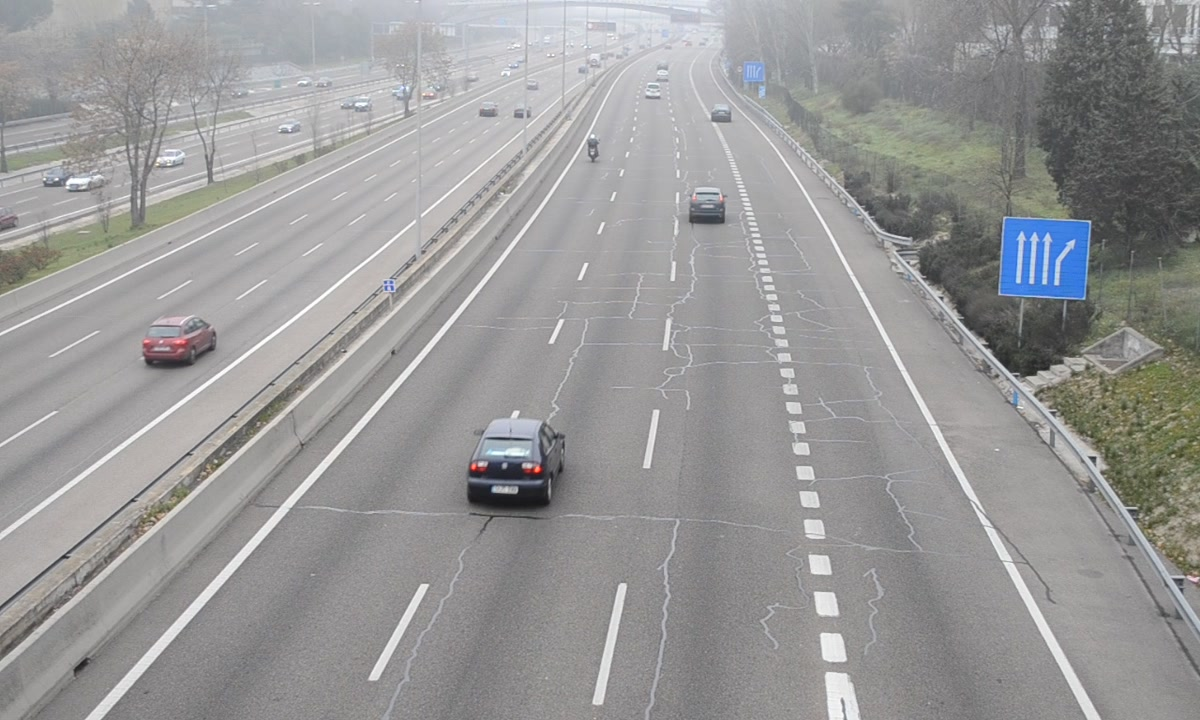car: (470, 418, 567, 508), (687, 188, 726, 223), (710, 104, 732, 122)
motorcycle: (585, 134, 599, 167)
